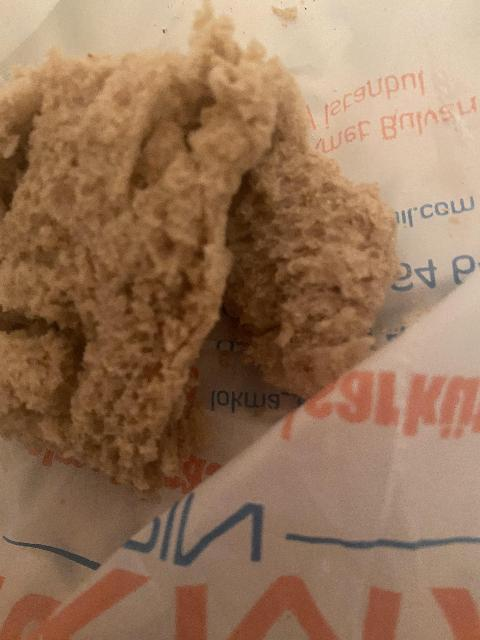Organik: (0, 48, 265, 295), (0, 244, 246, 481), (206, 59, 387, 381)
